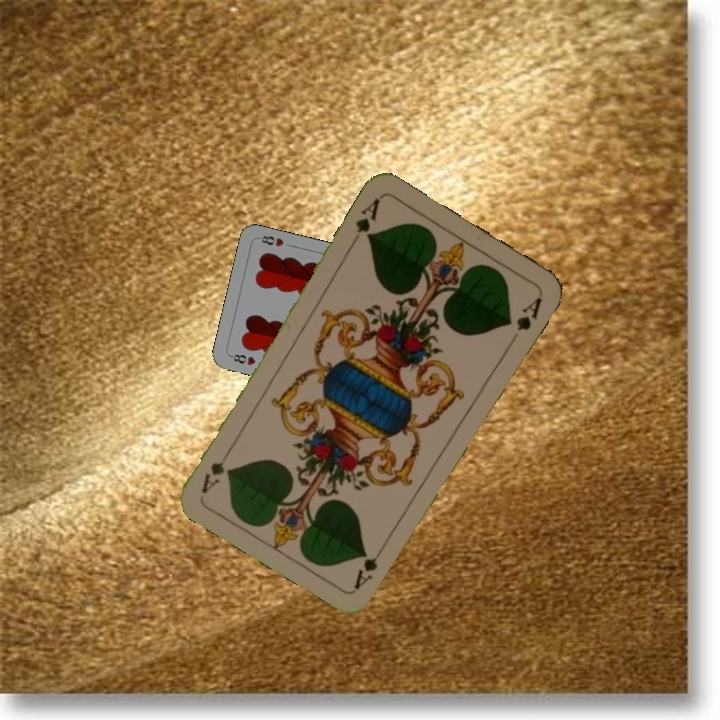GA: (350, 538, 390, 592), (351, 194, 383, 242)
H8: (226, 350, 258, 368)
